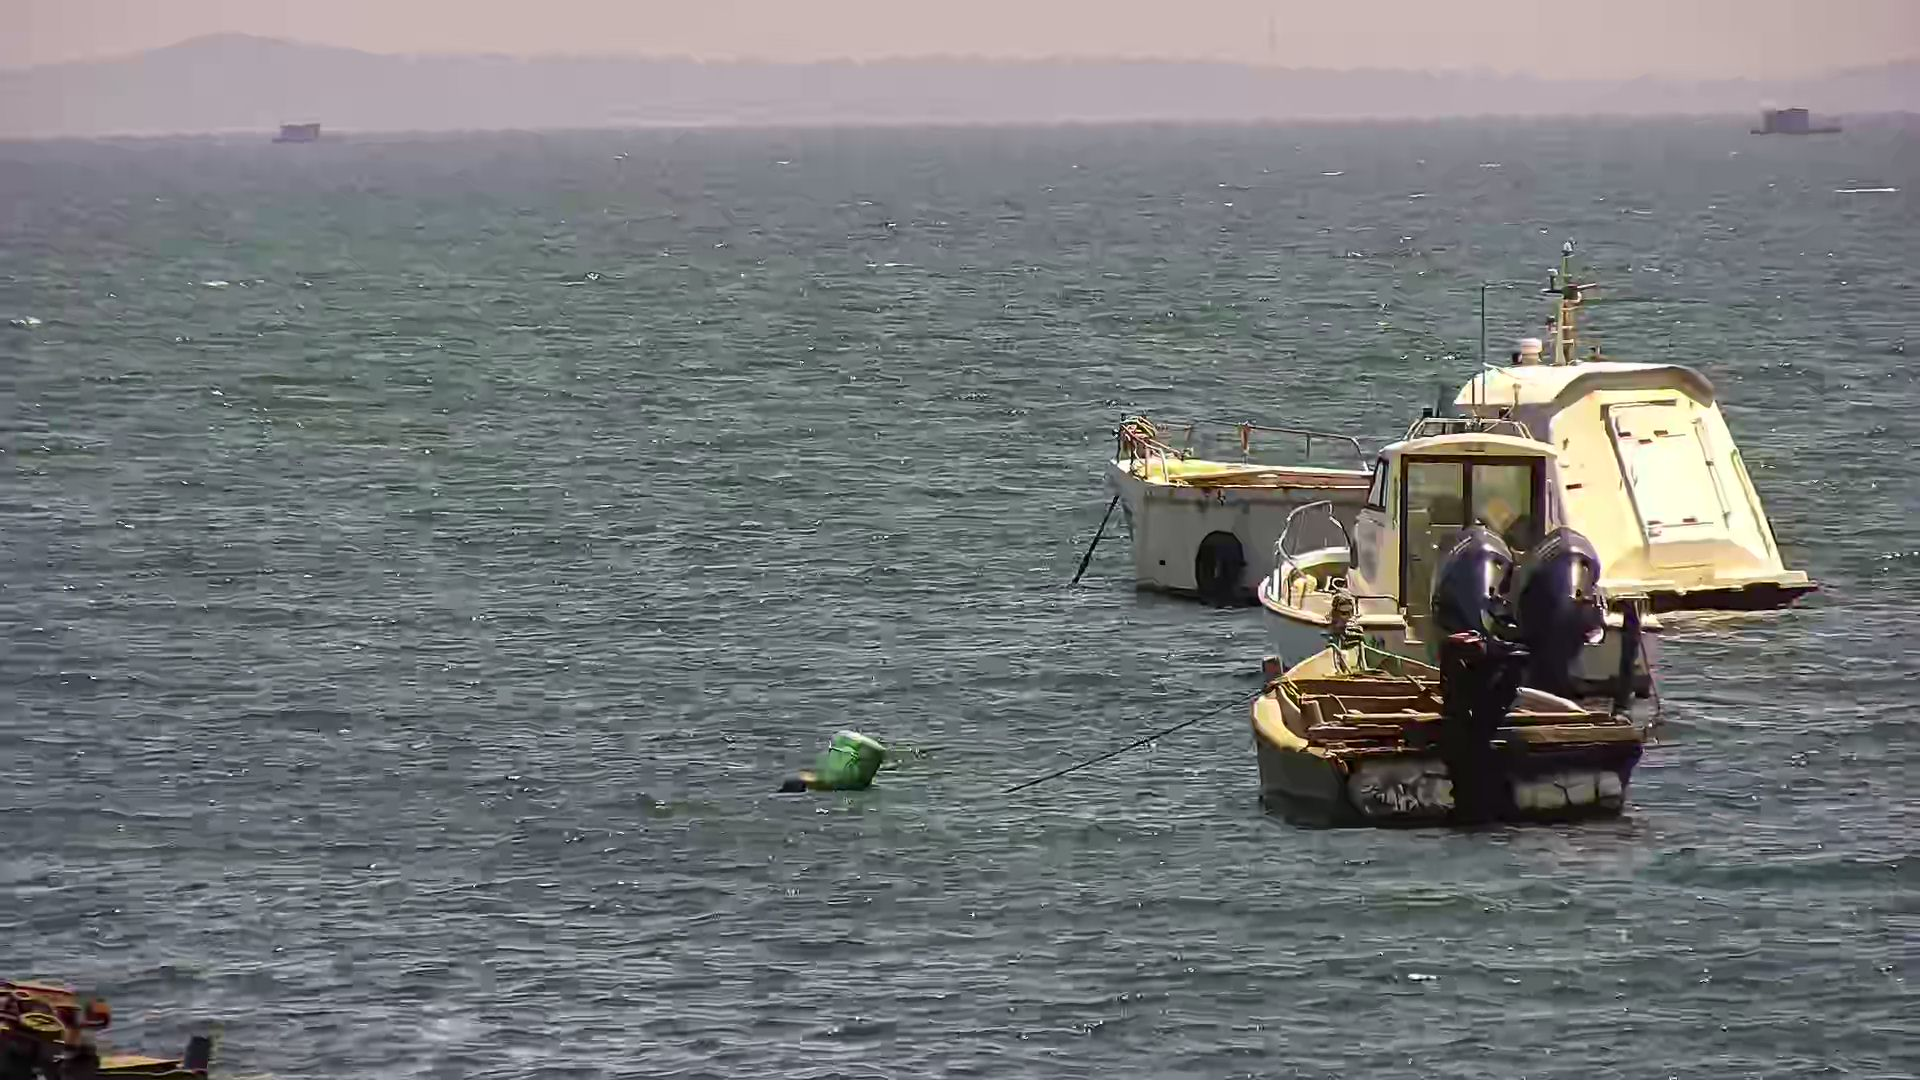boat: (1063, 291, 1850, 628), (1232, 384, 1745, 699), (1189, 584, 1710, 855)
platform: (1721, 102, 1867, 149), (258, 116, 368, 156)
rubbish: (774, 709, 899, 804)
